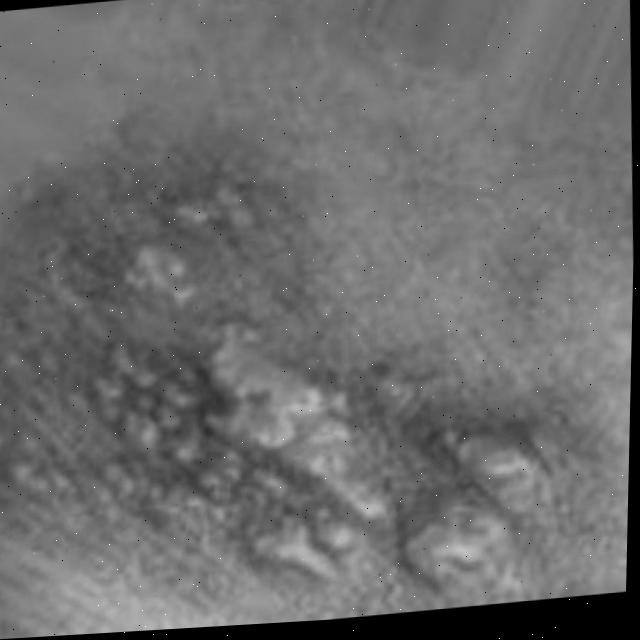Shingles: (93, 208, 548, 634)
